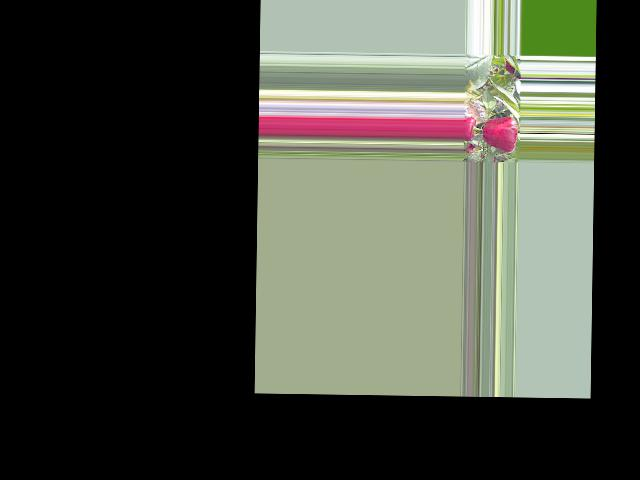bell_pepper: (462, 114, 478, 142)
